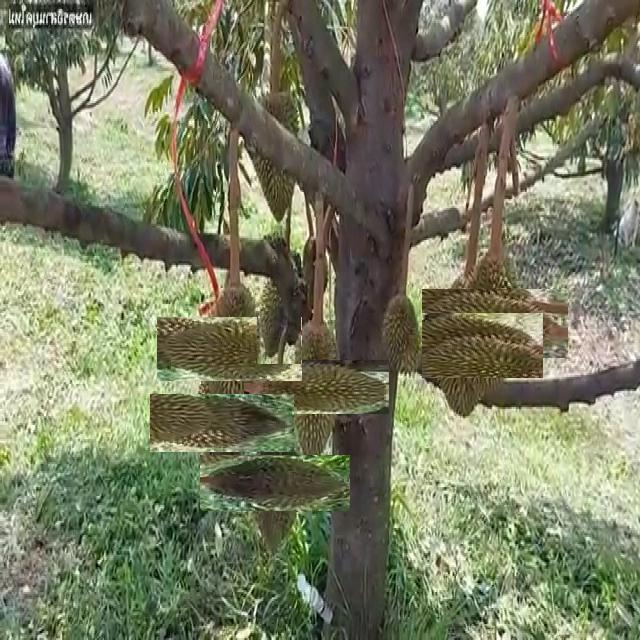durian: (429, 265, 545, 381), (410, 290, 520, 401), (177, 296, 282, 401), (223, 432, 327, 535), (171, 373, 273, 474), (267, 338, 367, 438), (243, 80, 301, 222), (256, 253, 300, 364), (380, 286, 422, 384)
